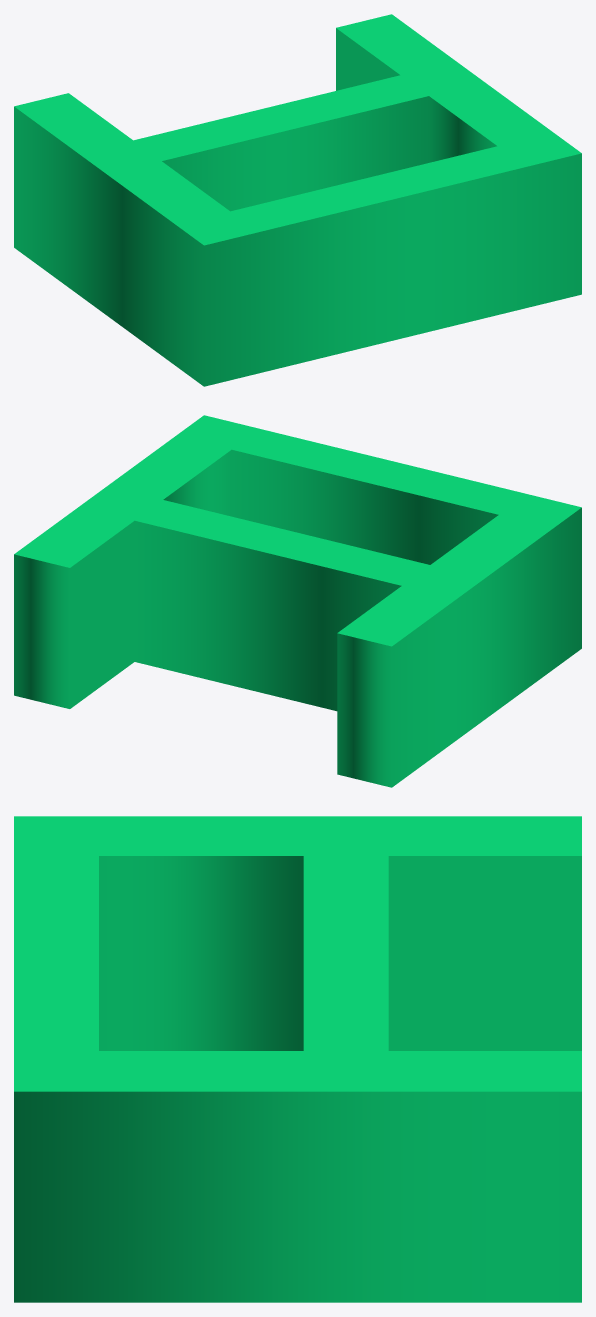
The model's file is sixth block.fbx.
The picture shows the model from 3 angles, top to bottom: view 1: azimuth 30°, elevation 25°; view 2: azimuth 150°, elevation 25°; view 3: azimuth 270°, elevation 25°; orthographic projection. The views are drawn at different scales.
Visible parts, largest first — view 1: Text.006; view 2: Text.006; view 3: Text.006.
Part boxes in pixels (x1,y1,x2,y2): Text.006: (14,14,581,386); Text.006: (14,415,581,787); Text.006: (14,816,581,1302).
Bounding box in the file's own units: 56 × 20 × 48.8.
